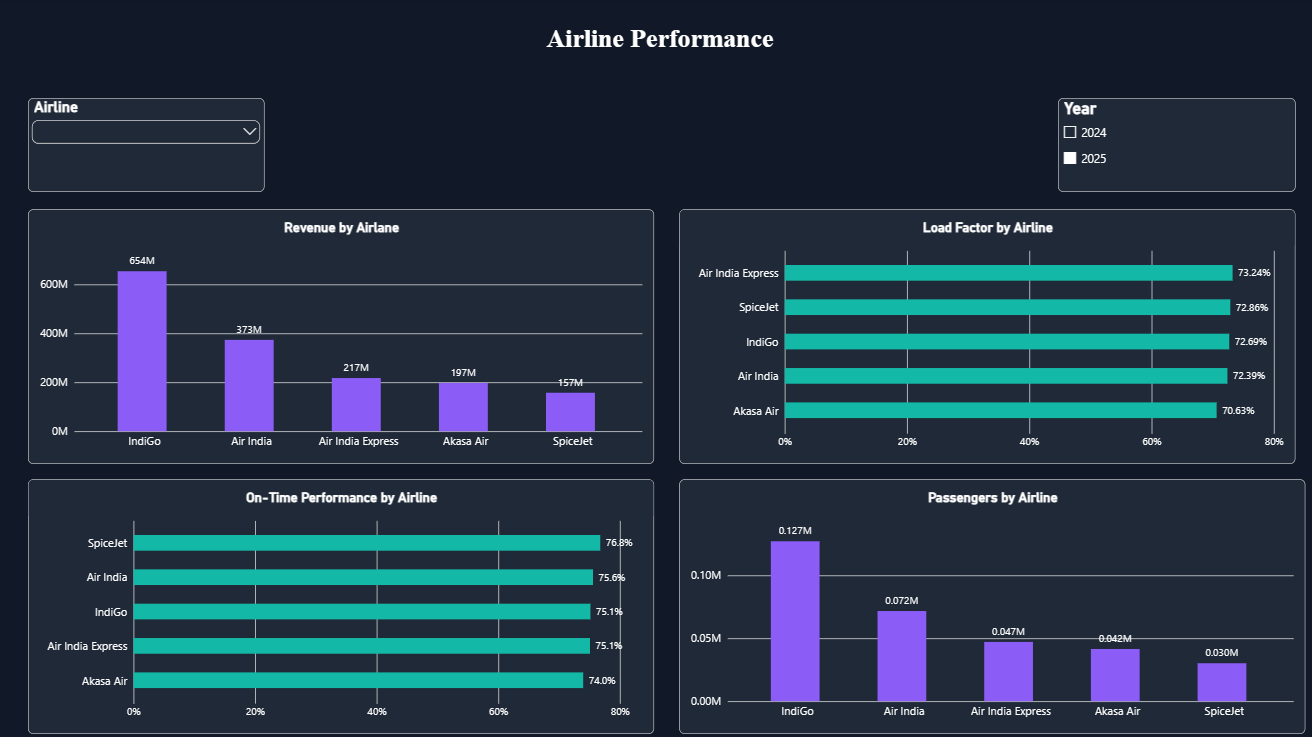

This screenshot's page, from the dashboard's own definition file:
{"tool":"powerbi","page":{"name":"Airline Performance","canvas":[1920,1080],"ordinal":1},"visuals":[{"type":"textbox","box":[10.9,0,1909.2,86.9],"z":0},{"type":"slicer","title":"Airlane","fields":{"Values":["Indian_Airline_Flights_2024_2025.Airline"]},"box":[50.7,144.8,342,135.7],"z":1000},{"type":"slicer","fields":{"Values":["DateTable.Year"]},"box":[1541.8,144.8,343.8,135.7],"z":2000},{"type":"clusteredColumnChart","title":"Revenue by Airlane","fields":{"Category":["Indian_Airline_Flights_2024_2025.Airline"],"Y":["Indian_Airline_Flights_2024_2025.Total Revenue"]},"box":[50.7,305.8,906.6,369.2],"z":3000},{"type":"clusteredBarChart","title":"Load Factor by Airline","fields":{"Category":["Indian_Airline_Flights_2024_2025.Airline"],"Y":["Indian_Airline_Flights_2024_2025.Average Load Factor"]},"box":[993.5,305.8,892.2,369.2],"z":4000},{"type":"clusteredBarChart","title":"On-Time Performance by Airline","fields":{"Category":["Indian_Airline_Flights_2024_2025.Airline"],"Y":["Indian_Airline_Flights_2024_2025.On-Time %"]},"box":[50.7,696.7,906.6,369.2],"z":5000},{"type":"clusteredColumnChart","title":"Passengers by Airline","fields":{"Category":["Indian_Airline_Flights_2024_2025.Airline"],"Y":["Indian_Airline_Flights_2024_2025.Total Passengers"]},"box":[993.5,696.7,906.6,369.2],"z":6000}]}

Visuals, with their boxes in screenshot pixels (x1, y1, x2, y2), scaled from the page's 1920x1080 canvas onto the 1312x737 screenshot:
textbox: 7:0:1311:59
"Airlane" slicer: 35:99:268:191
slicer - DateTable.Year: 1054:99:1288:191
"Revenue by Airlane" clusteredColumnChart: 35:209:654:461
"Load Factor by Airline" clusteredBarChart: 679:209:1289:461
"On-Time Performance by Airline" clusteredBarChart: 35:475:654:727
"Passengers by Airline" clusteredColumnChart: 679:475:1298:727
